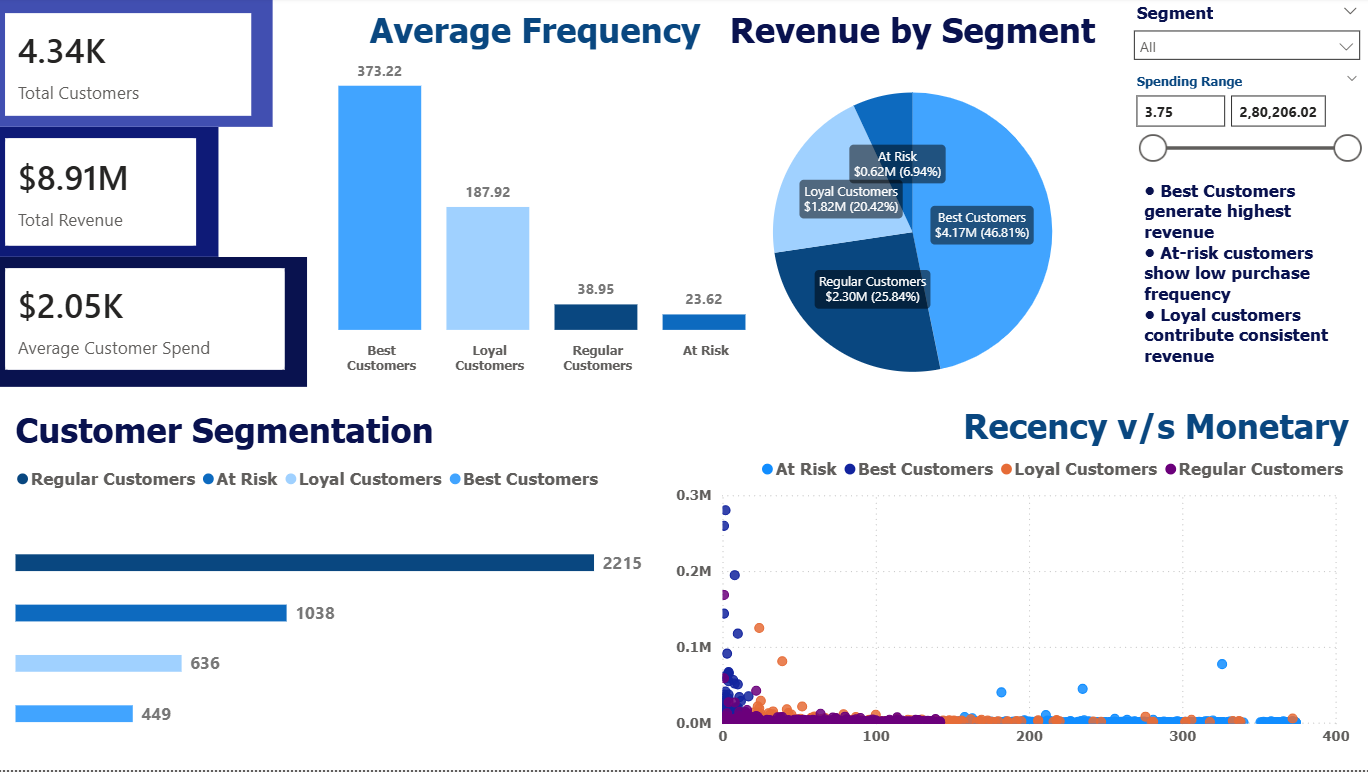

This screenshot's page, from the dashboard's own definition file:
{"tool":"powerbi","page":{"name":"Page 1","canvas":[1280,720],"ordinal":0},"visuals":[{"type":"cardVisual","fields":{"Data":["CountNonNull(rfm_analysis.CustomerID)"]},"box":[0,0,259.3,120.8],"z":0},{"type":"cardVisual","fields":{"Data":["Sum(rfm_analysis.Monetary)"]},"box":[0,120.8,208.6,120.8],"z":1000},{"type":"cardVisual","fields":{"Data":["Avg(rfm_analysis.Monetary)"]},"box":[0,241.5,290.9,120.8],"z":2000},{"type":"clusteredBarChart","title":"Customer Segmentation","fields":{"Category":["rfm_analysis.Segment"],"Y":["CountNonNull(rfm_analysis.CustomerID)"],"Series":["rfm_analysis.Segment"]},"box":[0,362.3,623,358.1],"z":3000},{"type":"pieChart","title":"Revenue by Segment","fields":{"Category":["rfm_analysis.Segment"],"Y":["Sum(rfm_analysis.Monetary)"]},"box":[543.4,0,623,388.3],"z":4000},{"type":"scatterChart","title":"Recency v/s Monetary","fields":{"X":["rfm_analysis.Recency"],"Y":["rfm_analysis.Monetary"],"Series":["rfm_analysis.Segment"]},"box":[623,359.5,657.3,360.9],"z":5000},{"type":"clusteredColumnChart","title":"Average Frequency","fields":{"Category":["rfm_analysis.Segment"],"Y":["Avg(rfm_analysis.Frequency)"]},"box":[259.3,0,488.5,362.3],"z":6000},{"type":"slicer","fields":{"Values":["rfm_analysis.Monetary"]},"box":[1049.7,60.4,230.5,104.3],"z":7000},{"type":"slicer","fields":{"Values":["rfm_analysis.Segment"]},"box":[1049.7,0,230.5,76.8],"z":8000},{"type":"textbox","box":[1049.7,164.7,230.5,194.9],"z":8001}]}

Visuals, with their boxes in screenshot pixels (x1, y1, x2, y2), scaled from the page's 1280x720 canvas onto the 1368x772 screenshot:
cardVisual - CountNonNull(rfm_analysis.CustomerID): (x1=0, y1=0, x2=277, y2=130)
cardVisual - Sum(rfm_analysis.Monetary): (x1=0, y1=130, x2=223, y2=259)
cardVisual - Avg(rfm_analysis.Monetary): (x1=0, y1=259, x2=311, y2=388)
"Customer Segmentation" clusteredBarChart: (x1=0, y1=388, x2=666, y2=771)
"Revenue by Segment" pieChart: (x1=581, y1=0, x2=1247, y2=416)
"Recency v/s Monetary" scatterChart: (x1=666, y1=385, x2=1367, y2=771)
"Average Frequency" clusteredColumnChart: (x1=277, y1=0, x2=799, y2=388)
slicer - rfm_analysis.Monetary: (x1=1122, y1=65, x2=1367, y2=177)
slicer - rfm_analysis.Segment: (x1=1122, y1=0, x2=1367, y2=82)
textbox: (x1=1122, y1=177, x2=1367, y2=386)
